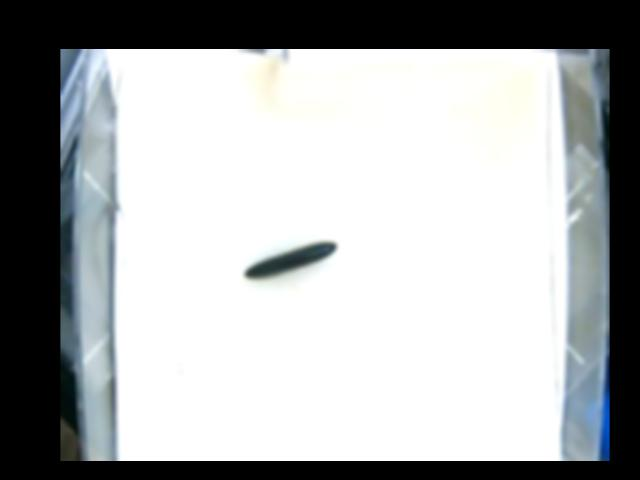Pebble: (241, 241, 340, 280)
